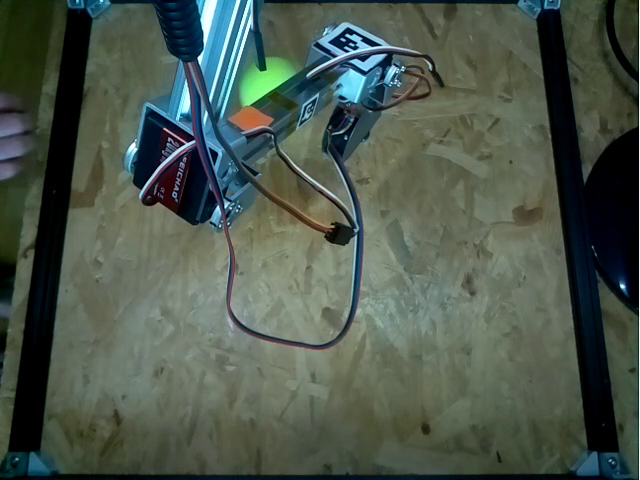tennis_ball: (238, 56, 303, 105)
